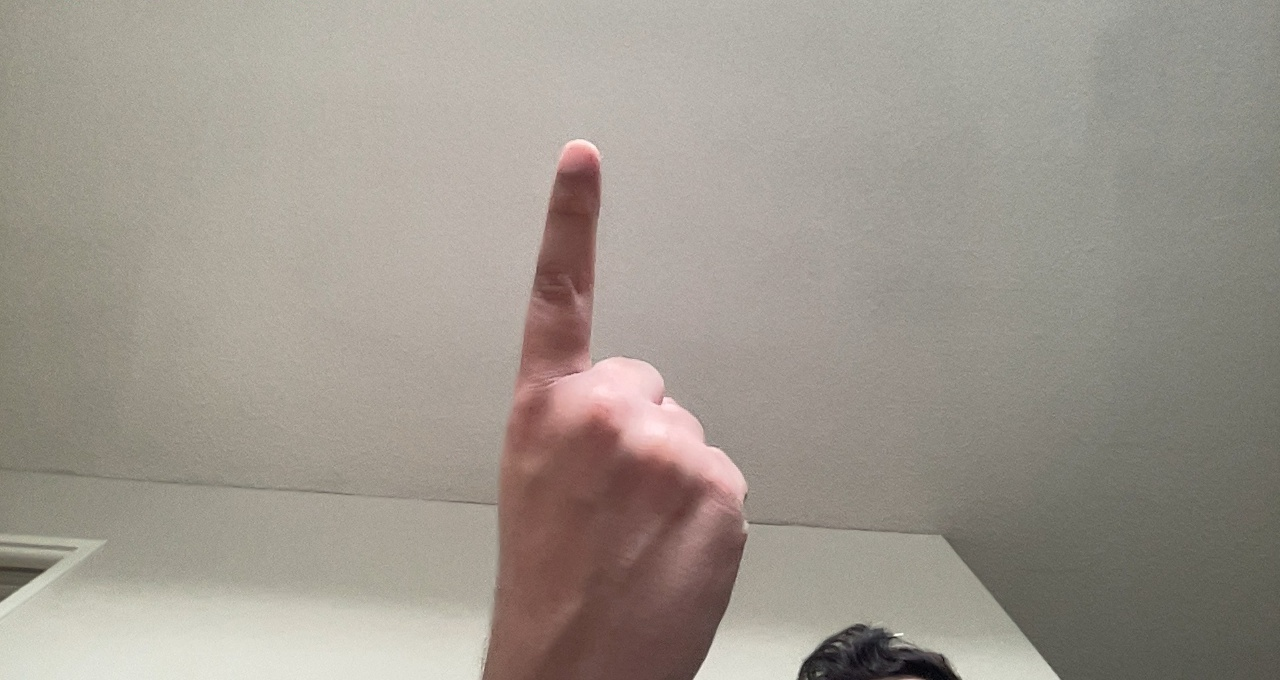fingerup: (503, 133, 752, 659)
